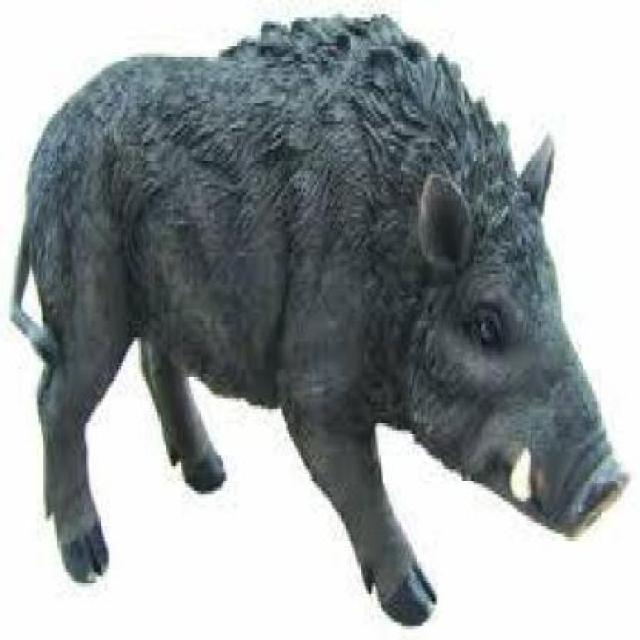wildboar: (0, 9, 629, 629)
